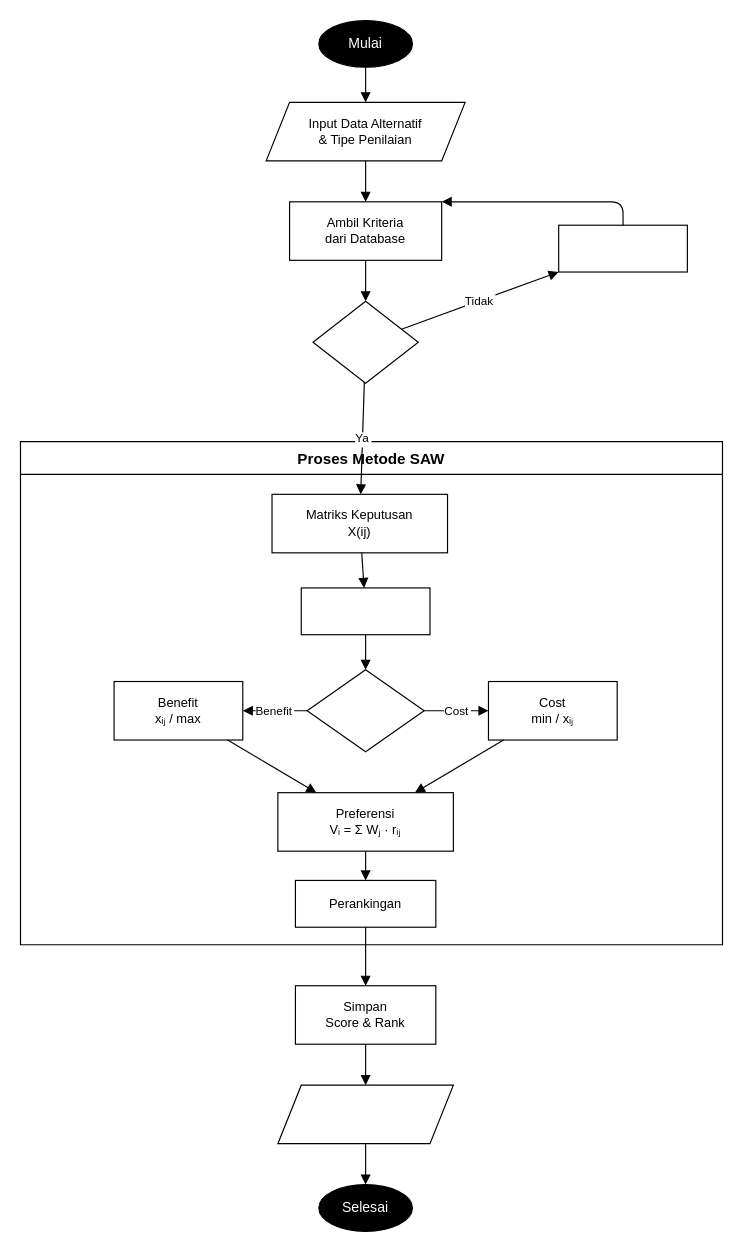
Some shapes in this 743 by 1252 pixel diagram are drawn without their labels. Here are the shapes that lost their labels. From the top down, the box of each, then its label:
(558, 224, 687, 272): Return Data
(312, 300, 418, 383): Data Tersedia?
(300, 587, 430, 635): Normalisasi
(306, 669, 424, 752): Jenis Kriteria?
(277, 1084, 453, 1144): Output Perankingan
